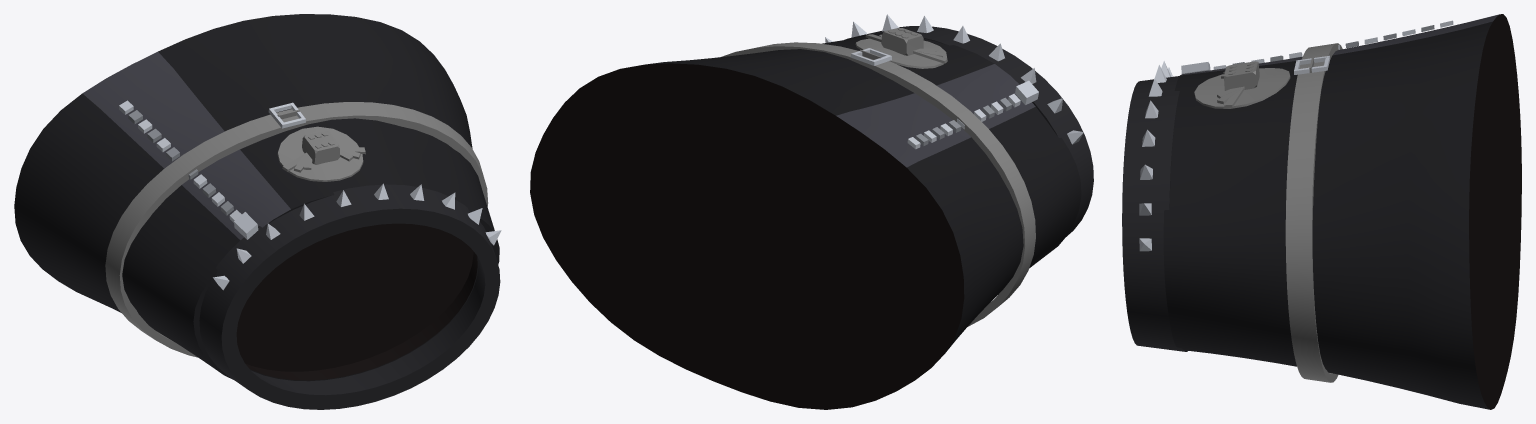
File: Sleeve_Biker.fbx
3 views of the same model, side by side, from view 1: azimuth 30°, elevation 25°; view 2: azimuth 150°, elevation 25°; view 3: azimuth 270°, elevation 25° (orthographic). The views are drawn at different scales.
Parts seen in each view (by area): view 1: Sleeve_Biker; view 2: Sleeve_Biker; view 3: Sleeve_Biker.
Boxes of the visible parts, bbox=[...] form: Sleeve_Biker: bbox=[14, 14, 501, 409]; Sleeve_Biker: bbox=[530, 14, 1093, 409]; Sleeve_Biker: bbox=[1122, 14, 1521, 409].
Bounding box in the file's own units: 1.01 × 0.6556 × 0.7384.
1 material, 1 textured.
